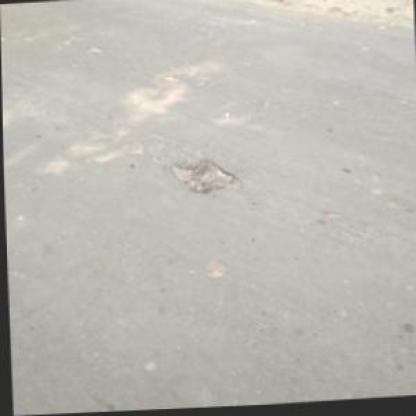pothole: (168, 156, 242, 196)
